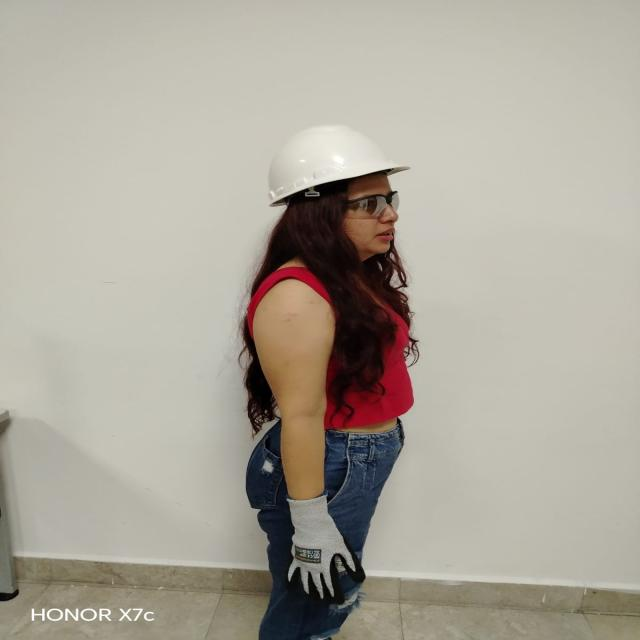gloves: (287, 494, 365, 607)
helmet: (264, 122, 411, 206)
protective_glasses: (345, 191, 399, 218)
